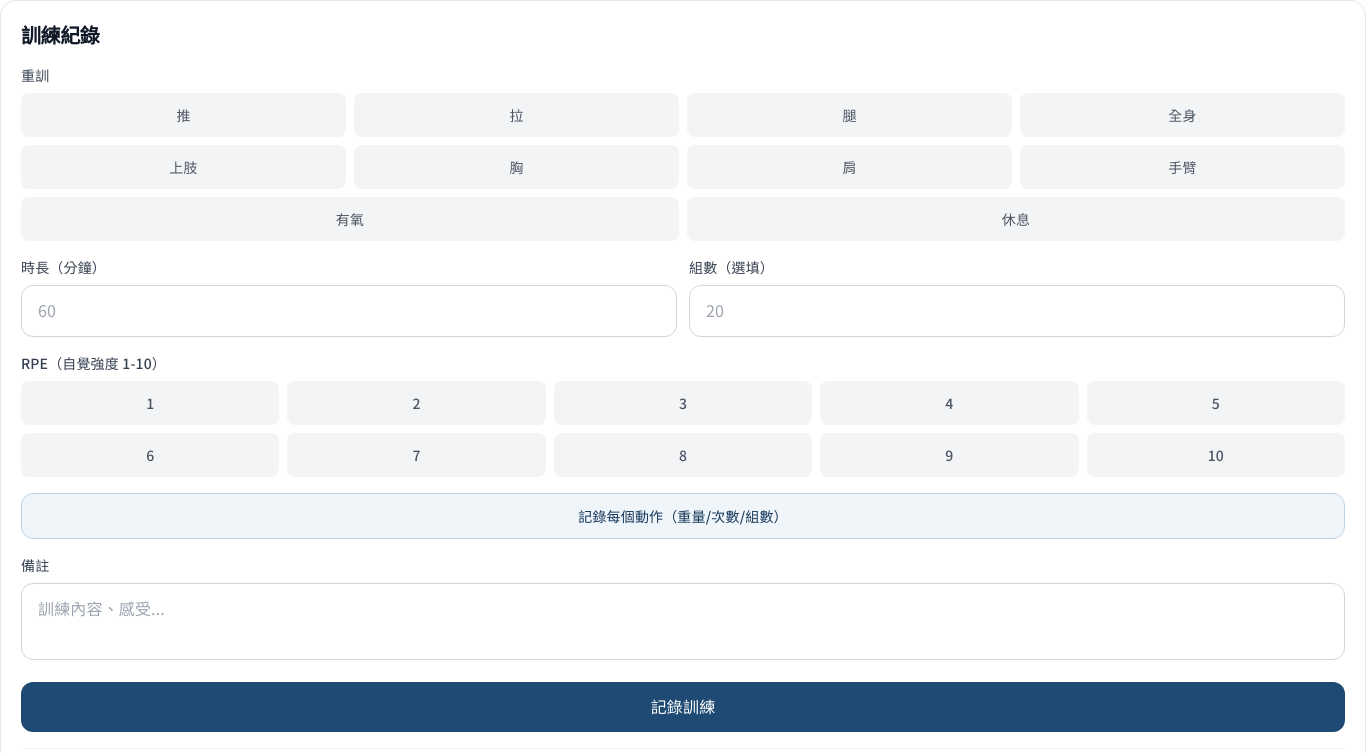
Test case: TrainingLog › shows rest day carbs for cardio training with carb cycling
Click the button "有氧": (350, 219) [21,197,679,241]
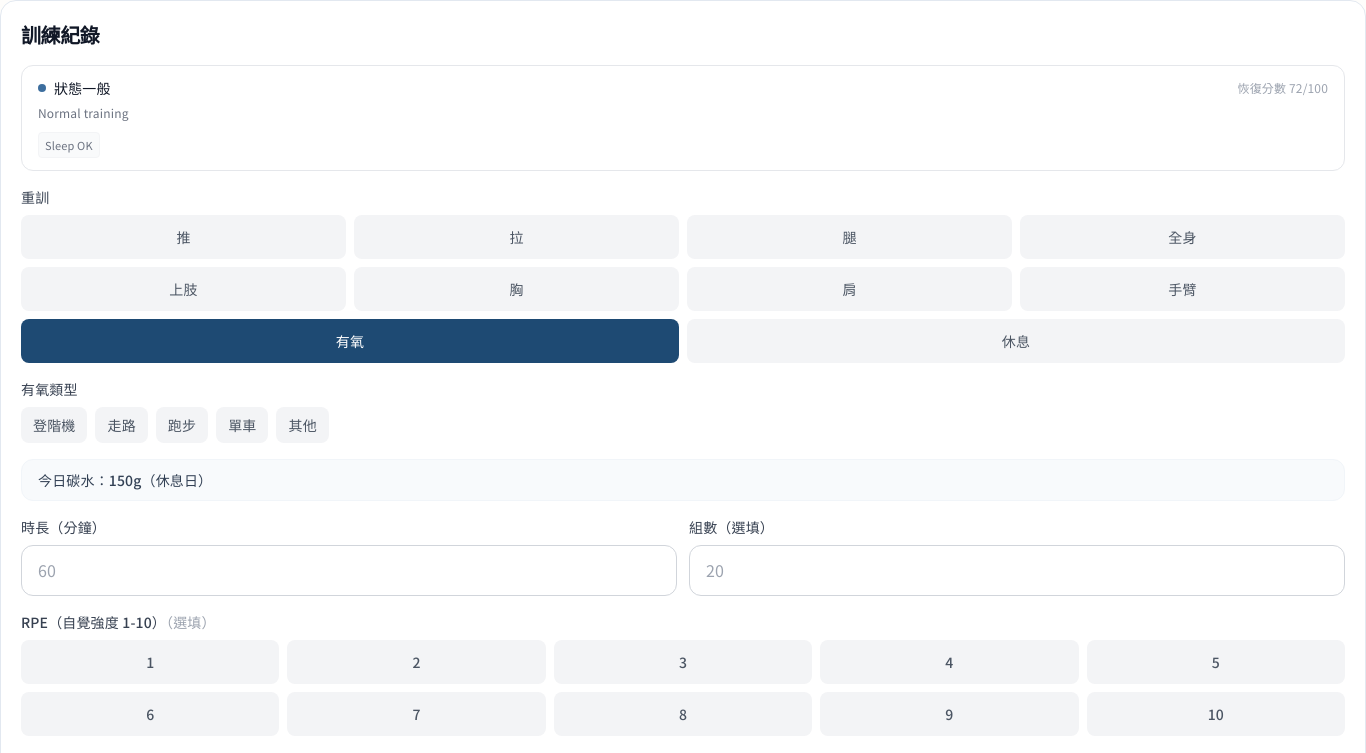
Check: the text "今日碳水：150g（休息日）" is shown, box [21,459,1345,501]
